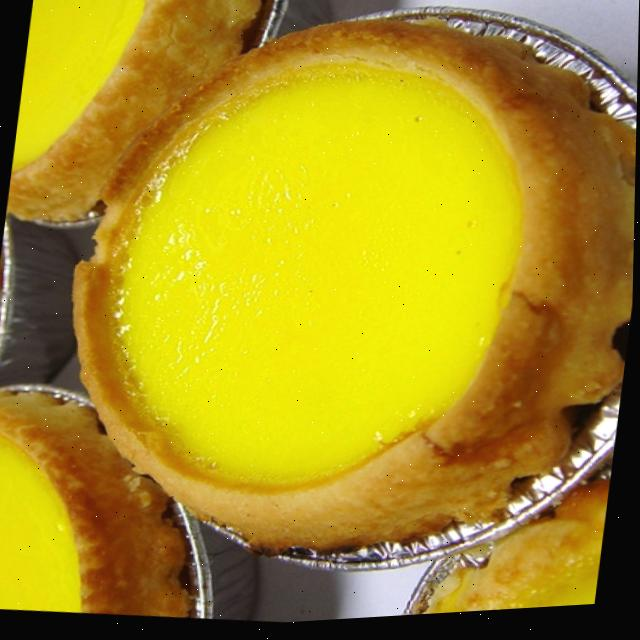炸货点心: (5, 0, 640, 639)
蛋糕甜品: (5, 0, 640, 639)
